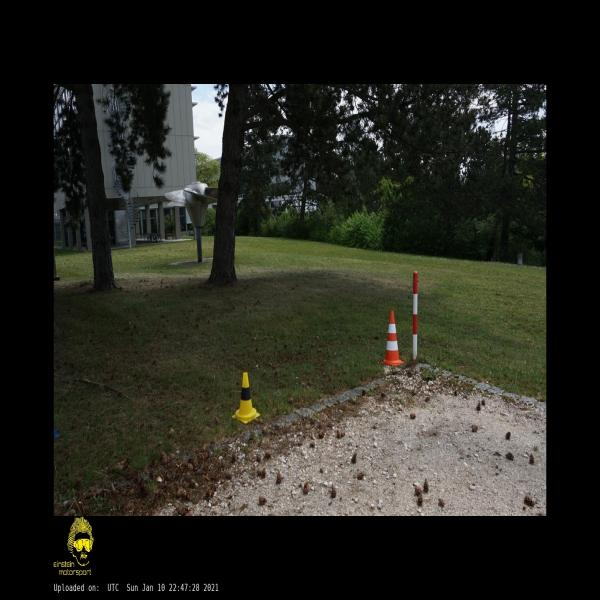large_orange_cone: (381, 310, 403, 366)
yellow_cone: (232, 373, 260, 423)
